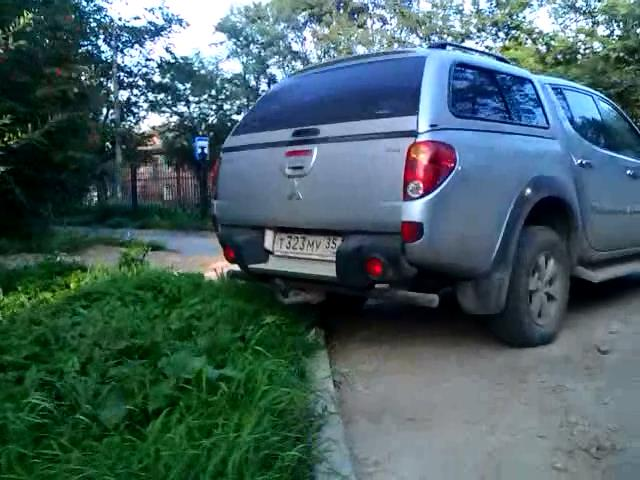car license plate: (270, 227, 343, 264)
